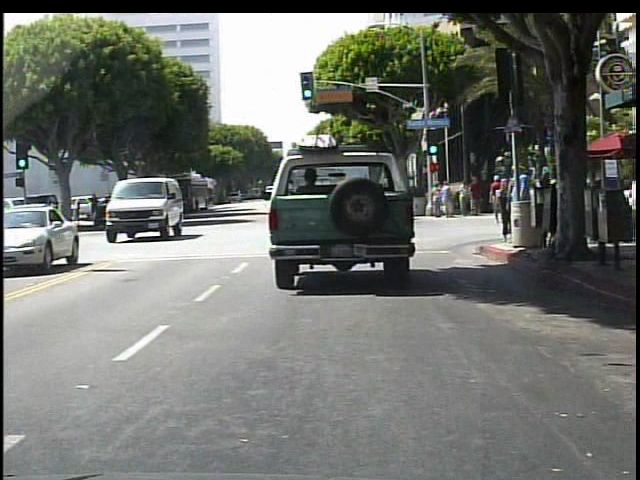person: (514, 163, 533, 242), (489, 172, 509, 223), (500, 171, 513, 241), (522, 175, 539, 227), (538, 173, 552, 219), (470, 172, 484, 215), (440, 180, 453, 217), (458, 179, 470, 214), (433, 184, 443, 216)
